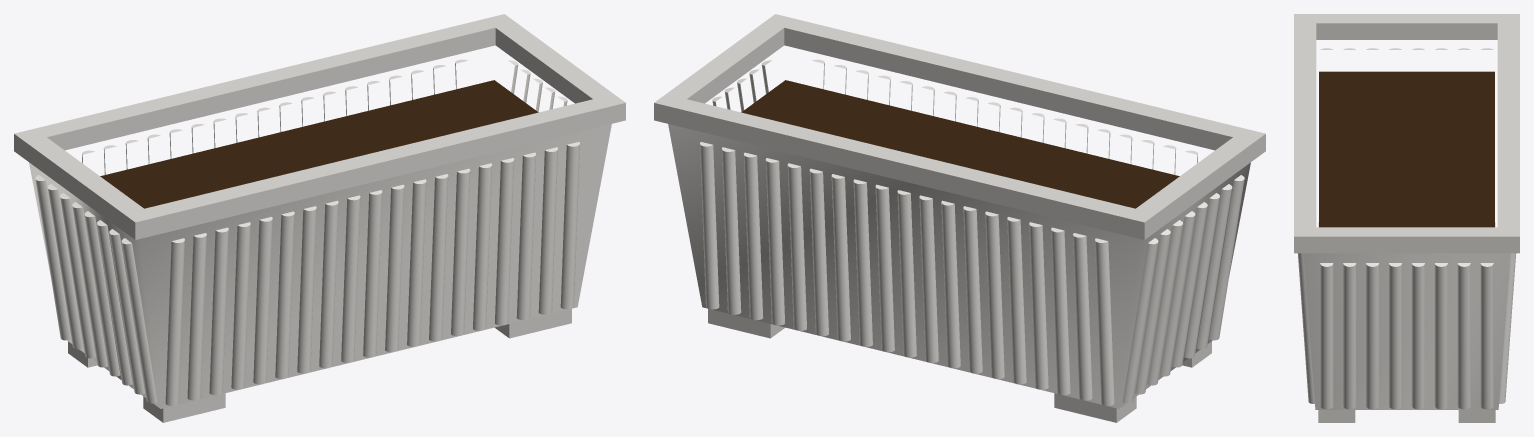
The picture shows the model from 3 angles, left to right: view 1: azimuth 30°, elevation 25°; view 2: azimuth 150°, elevation 25°; view 3: azimuth 270°, elevation 25°; orthographic projection. The views are drawn at different scales.
Visible parts, largest first — view 1: shell, soil, rim-top-f, rim-top-b, rim-f, rim-b, rim-top-l, rim-top-r, flute-0-4, flute-0-7, flute-0-0, flute-0-1 (+27 smaller); view 2: shell, soil, rim-top-b, rim-top-f, rim-b, rim-f, rim-top-l, rim-top-r, flute-1-14, flute-1-11, flute-1-9, flute-1-17 (+27 smaller); view 3: soil, shell, rim-top-f, rim-top-b, rim-top-r, rim-top-l, flute-2-0, flute-2-7, flute-2-2, flute-2-3, flute-2-4, flute-2-5 (+10 smaller).
Boxes of the visible parts, x1,y1,x2,y2 form: shell: (29, 124, 611, 408); soil: (100, 80, 538, 208); rim-top-f: (123, 94, 625, 230); rim-top-b: (14, 14, 515, 149); rim-f: (123, 111, 625, 239); rim-b: (14, 35, 495, 159); rim-top-l: (26, 137, 143, 221); rim-top-r: (495, 22, 613, 100); flute-0-4: (253, 217, 272, 384); flute-0-7: (319, 200, 338, 368); flute-0-0: (165, 238, 184, 405); flute-0-1: (187, 233, 206, 400); shell: (668, 124, 1250, 408); soil: (741, 80, 1179, 208); rim-top-b: (654, 94, 1156, 230); rim-top-f: (764, 14, 1265, 149); rim-b: (654, 111, 1156, 239); rim-f: (784, 35, 1265, 159); rim-top-l: (1136, 137, 1253, 221); rim-top-r: (666, 22, 784, 100); flute-1-14: (1007, 217, 1026, 384); flute-1-11: (941, 200, 960, 368); flute-1-9: (897, 190, 916, 357); flute-1-17: (1073, 233, 1092, 400); soil: (1319, 71, 1494, 227); shell: (1303, 253, 1510, 409); rim-top-f: (1294, 14, 1316, 244); rim-top-b: (1497, 14, 1519, 244); rim-top-r: (1316, 227, 1497, 244); rim-top-l: (1316, 14, 1497, 30); flute-2-0: (1320, 263, 1333, 409); flute-2-7: (1480, 263, 1493, 409); flute-2-2: (1366, 263, 1379, 409); flute-2-3: (1389, 263, 1402, 409); flute-2-4: (1411, 263, 1424, 409); flute-2-5: (1434, 263, 1447, 409).
Bounding box in the file's own units: 0.7 × 0.3 × 0.3.
